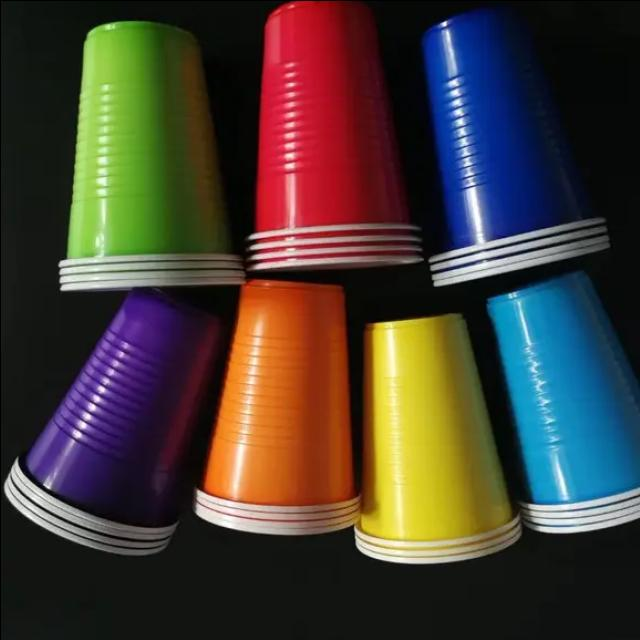plastik: (3, 289, 220, 554), (421, 7, 608, 285), (58, 20, 244, 290), (246, 0, 422, 271), (194, 279, 358, 532), (354, 314, 520, 563), (487, 271, 640, 532)
